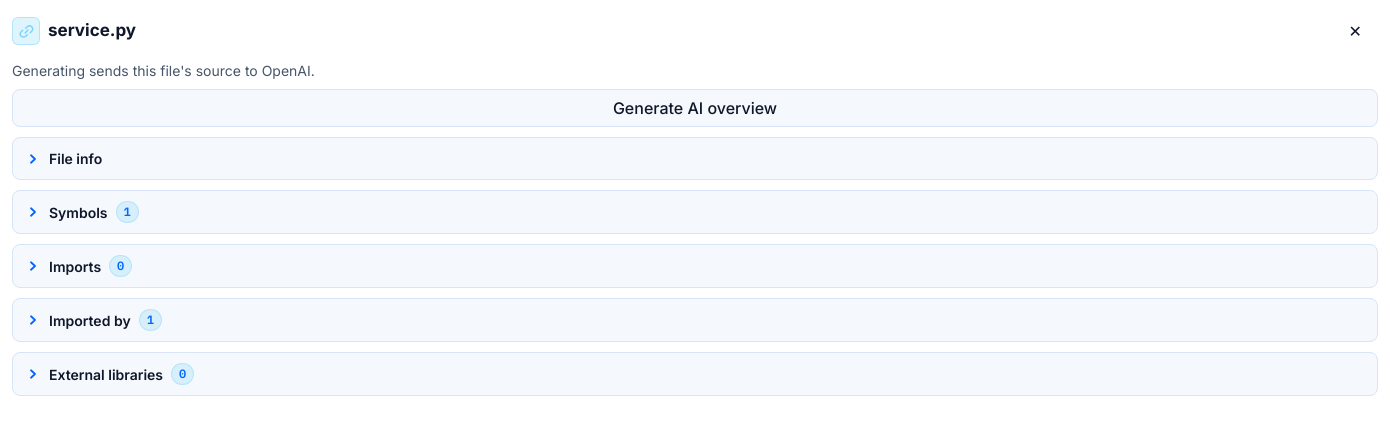
Test: AI File Overview integration › explains the per-visitor limit without offering a retry
The width and height of the screenshot is (1390, 435).
Click the button "Generate AI overview" at (695, 108), box [12, 89, 1378, 127]
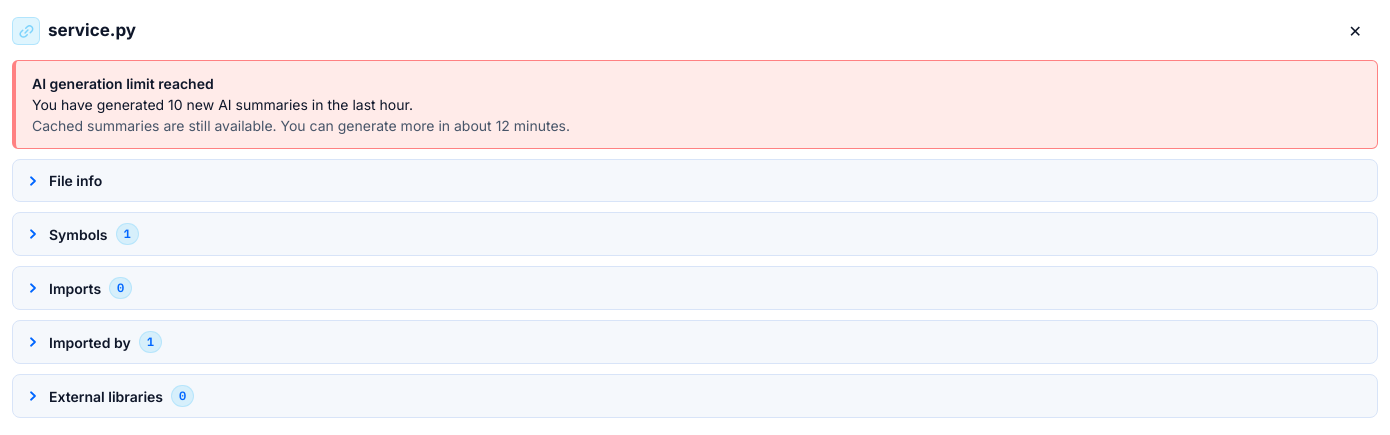
Result: the text "AI generation limit reached" is shown at [32, 75, 214, 92]
Result: the text "about 12 minutes" is shown at [32, 117, 570, 134]
